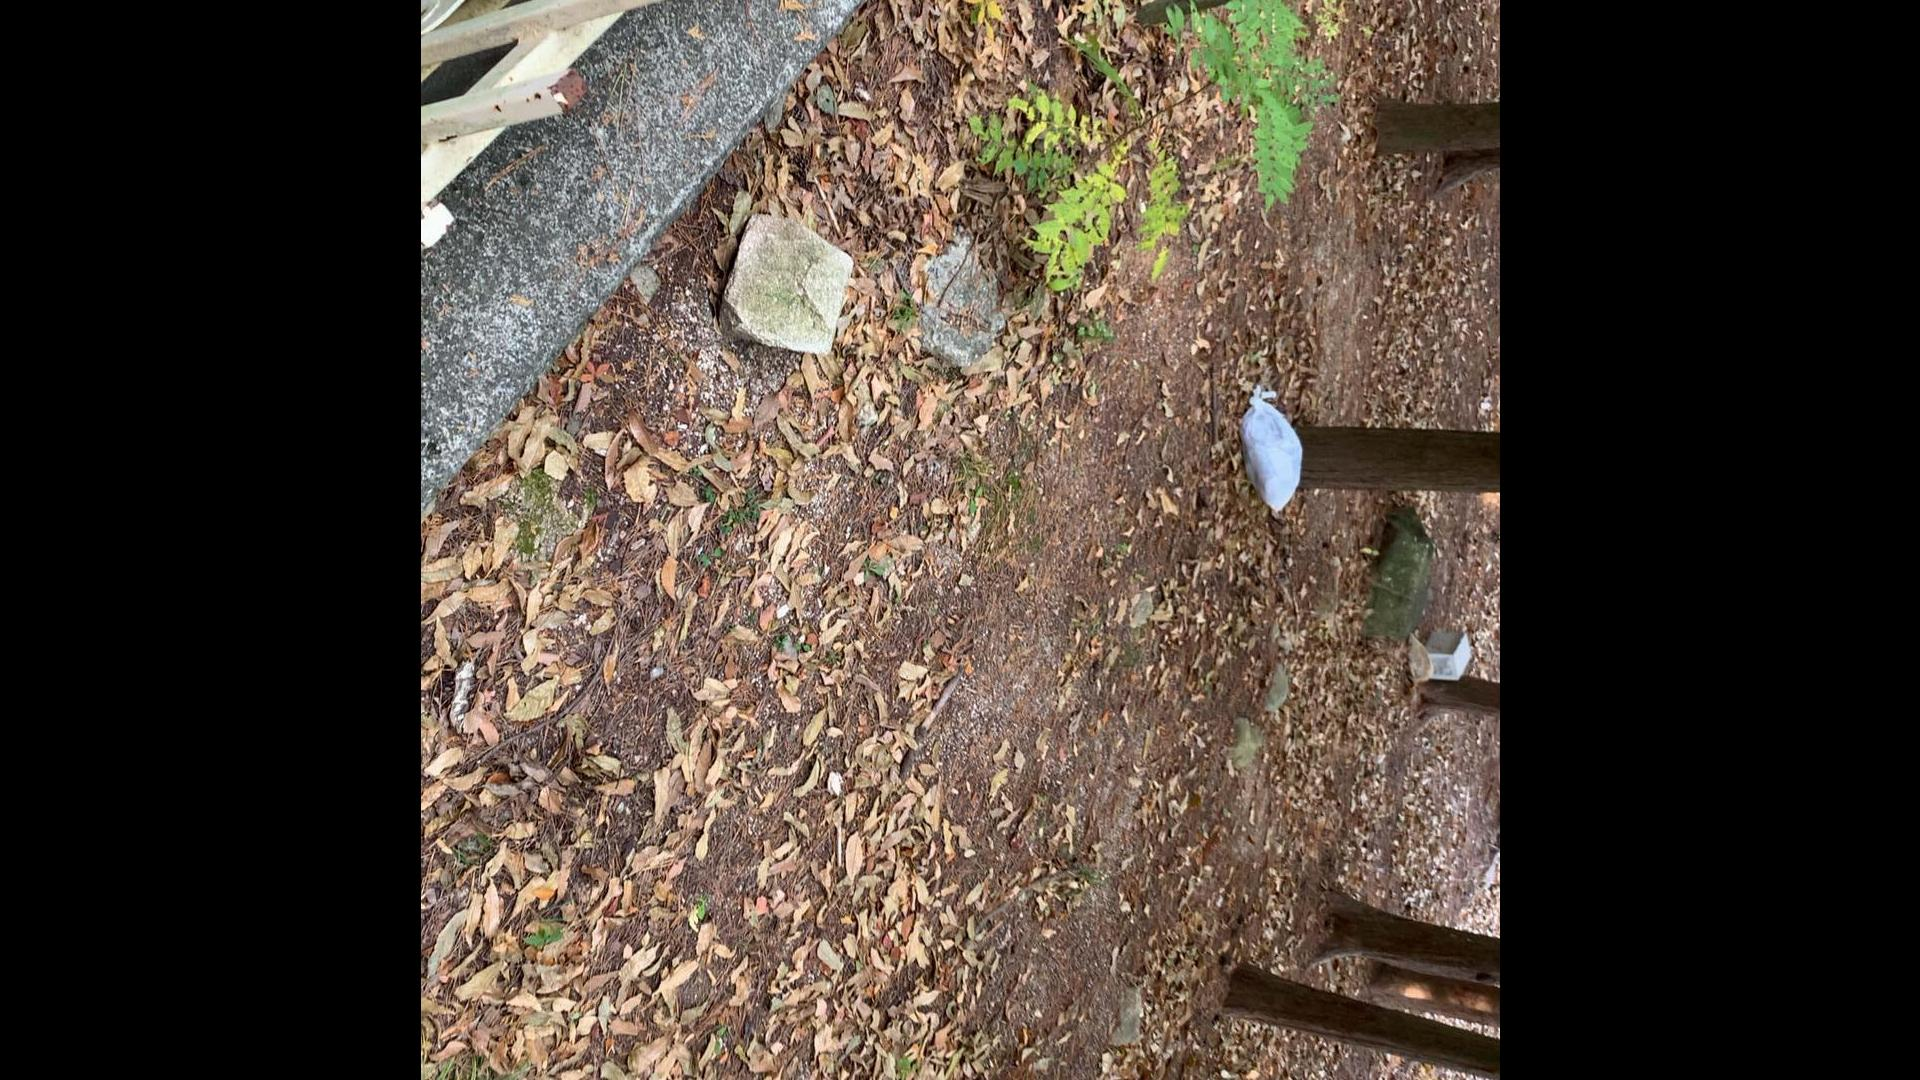white_bag: (1233, 381, 1308, 513)
